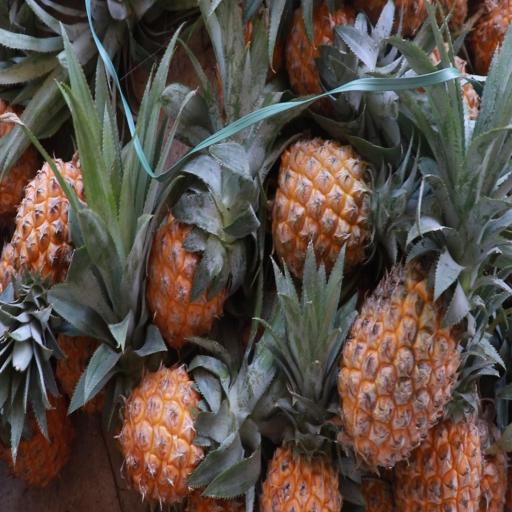Pineapple - v8 v1: (333, 234, 482, 473), (267, 132, 406, 298), (119, 352, 254, 508), (143, 184, 252, 356), (4, 144, 108, 316), (256, 366, 346, 512), (282, 0, 385, 126)
